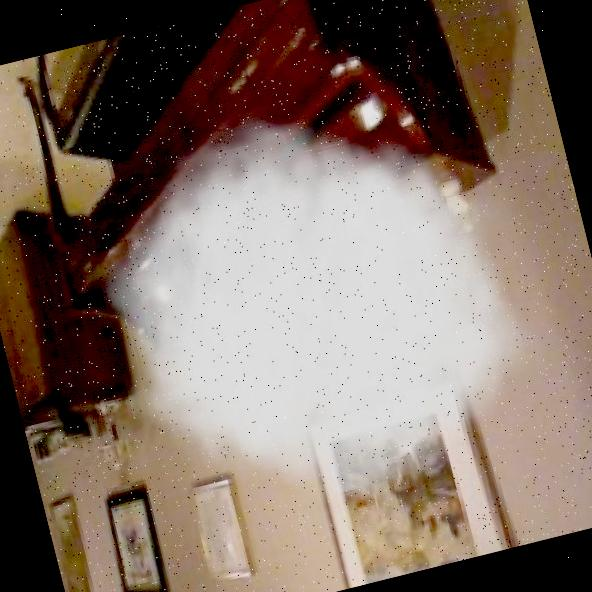smoke: (73, 86, 537, 531)
